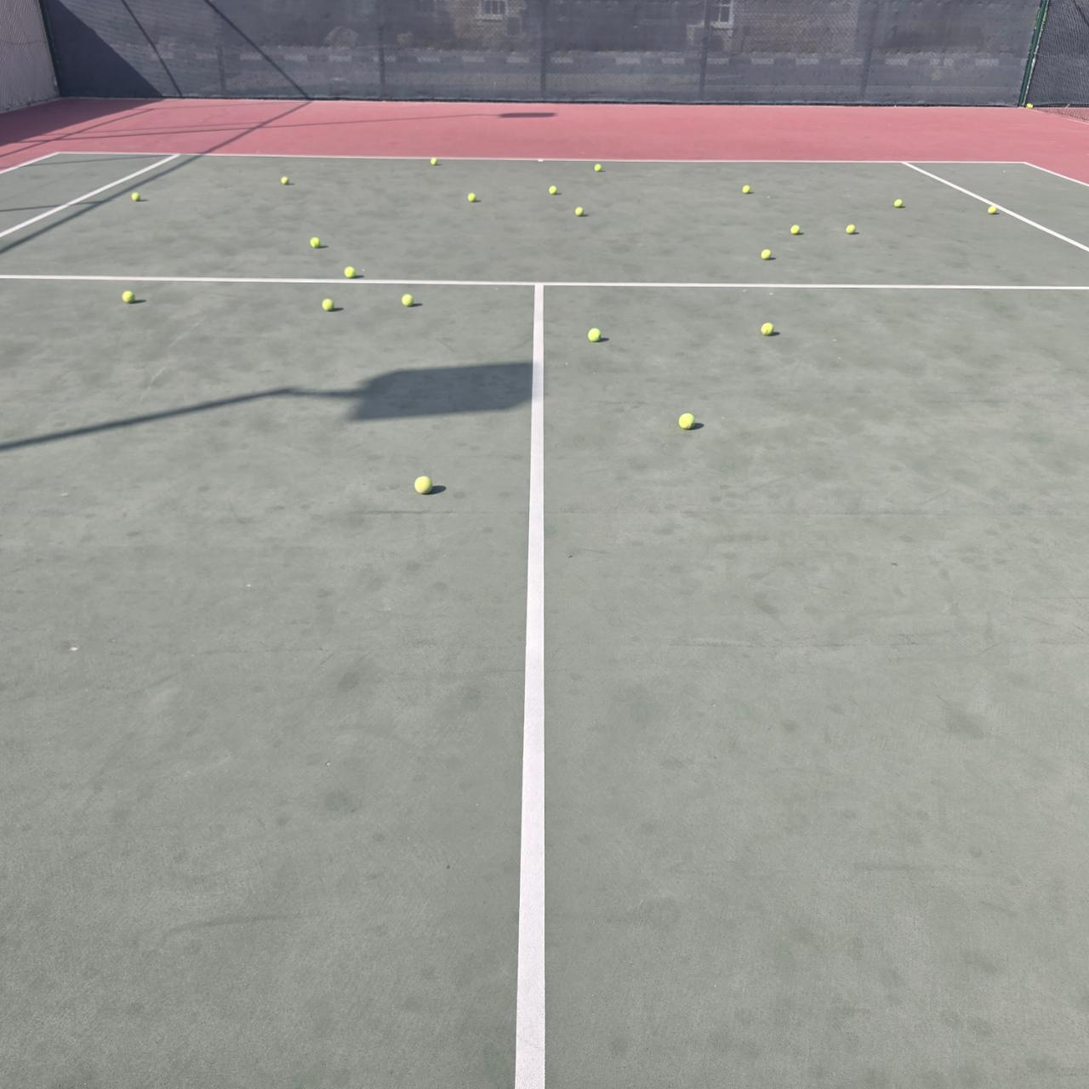tennis-ball: (415, 475, 433, 493), (679, 413, 696, 429), (760, 322, 774, 336), (588, 328, 602, 341), (322, 298, 335, 312), (122, 290, 135, 303), (401, 294, 414, 307), (344, 265, 356, 278), (309, 236, 321, 249), (760, 248, 772, 261), (846, 224, 857, 234), (790, 224, 800, 235), (987, 205, 997, 215), (893, 198, 903, 208), (741, 184, 751, 194), (131, 191, 140, 202), (467, 192, 476, 203), (575, 206, 584, 217), (280, 175, 289, 185), (548, 185, 557, 195), (594, 163, 602, 172), (430, 157, 438, 166), (1026, 103, 1033, 109)
